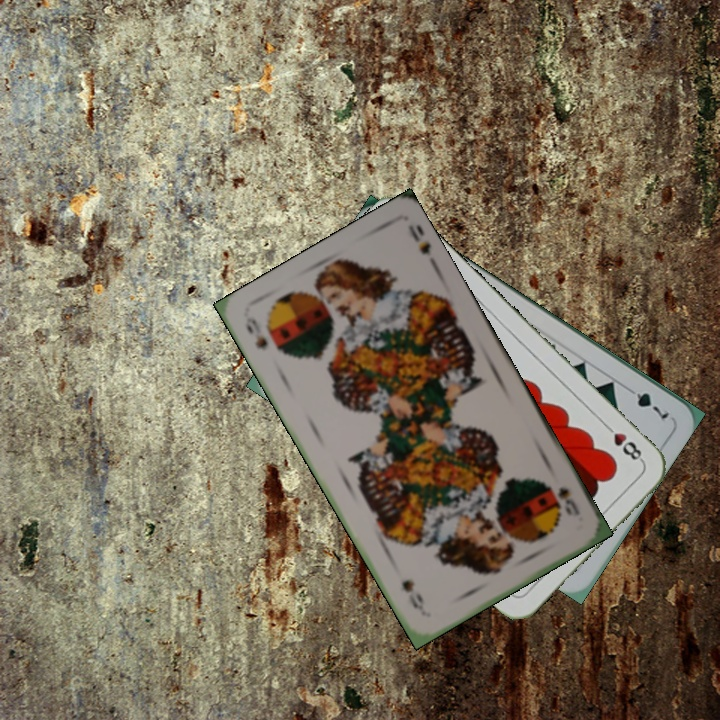G7: (621, 383, 672, 424)
H8: (599, 419, 646, 465)
SO: (545, 482, 583, 519), (241, 313, 271, 353)
